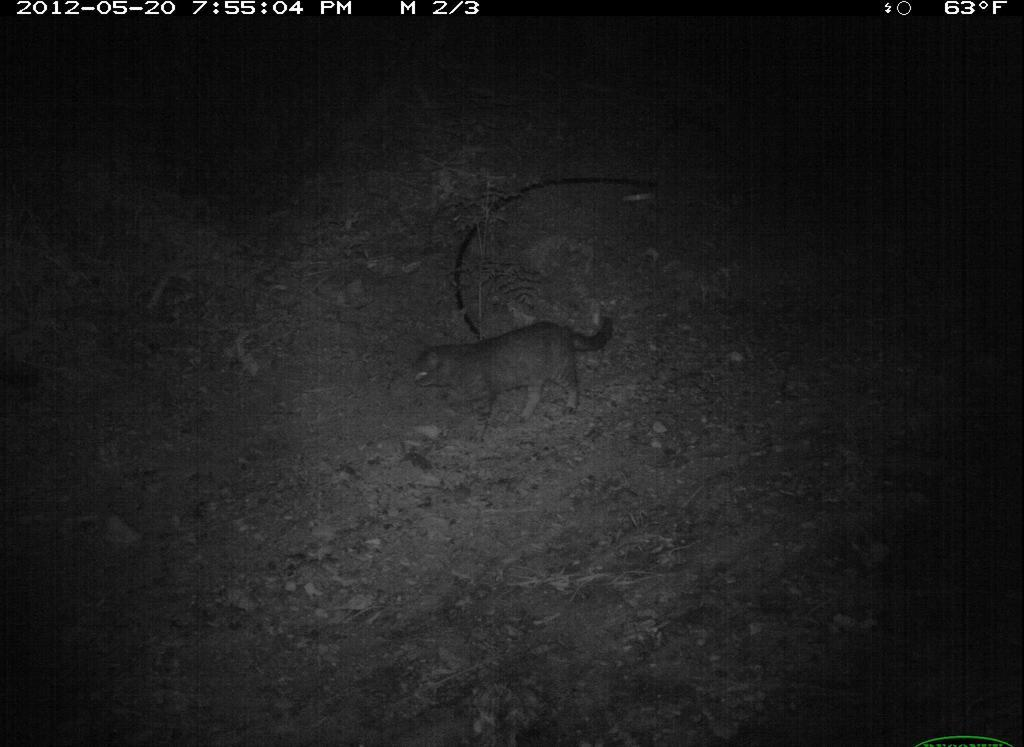cat: (386, 312, 644, 433)
